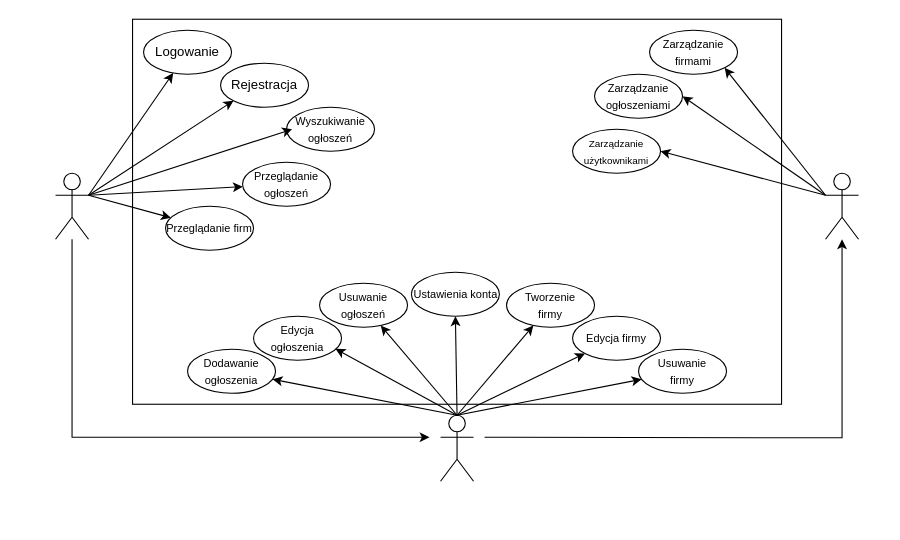
This 900x540 diagram has some shape labels left out. The shapes that lost their labels are listed below. From the top down, each one's centre as x and y in pixels, then its label:
[71,205]: Użytkownik niezarejestrowany
[841,205]: Administrator
[456,447]: Użytkownik zarejestrowany
